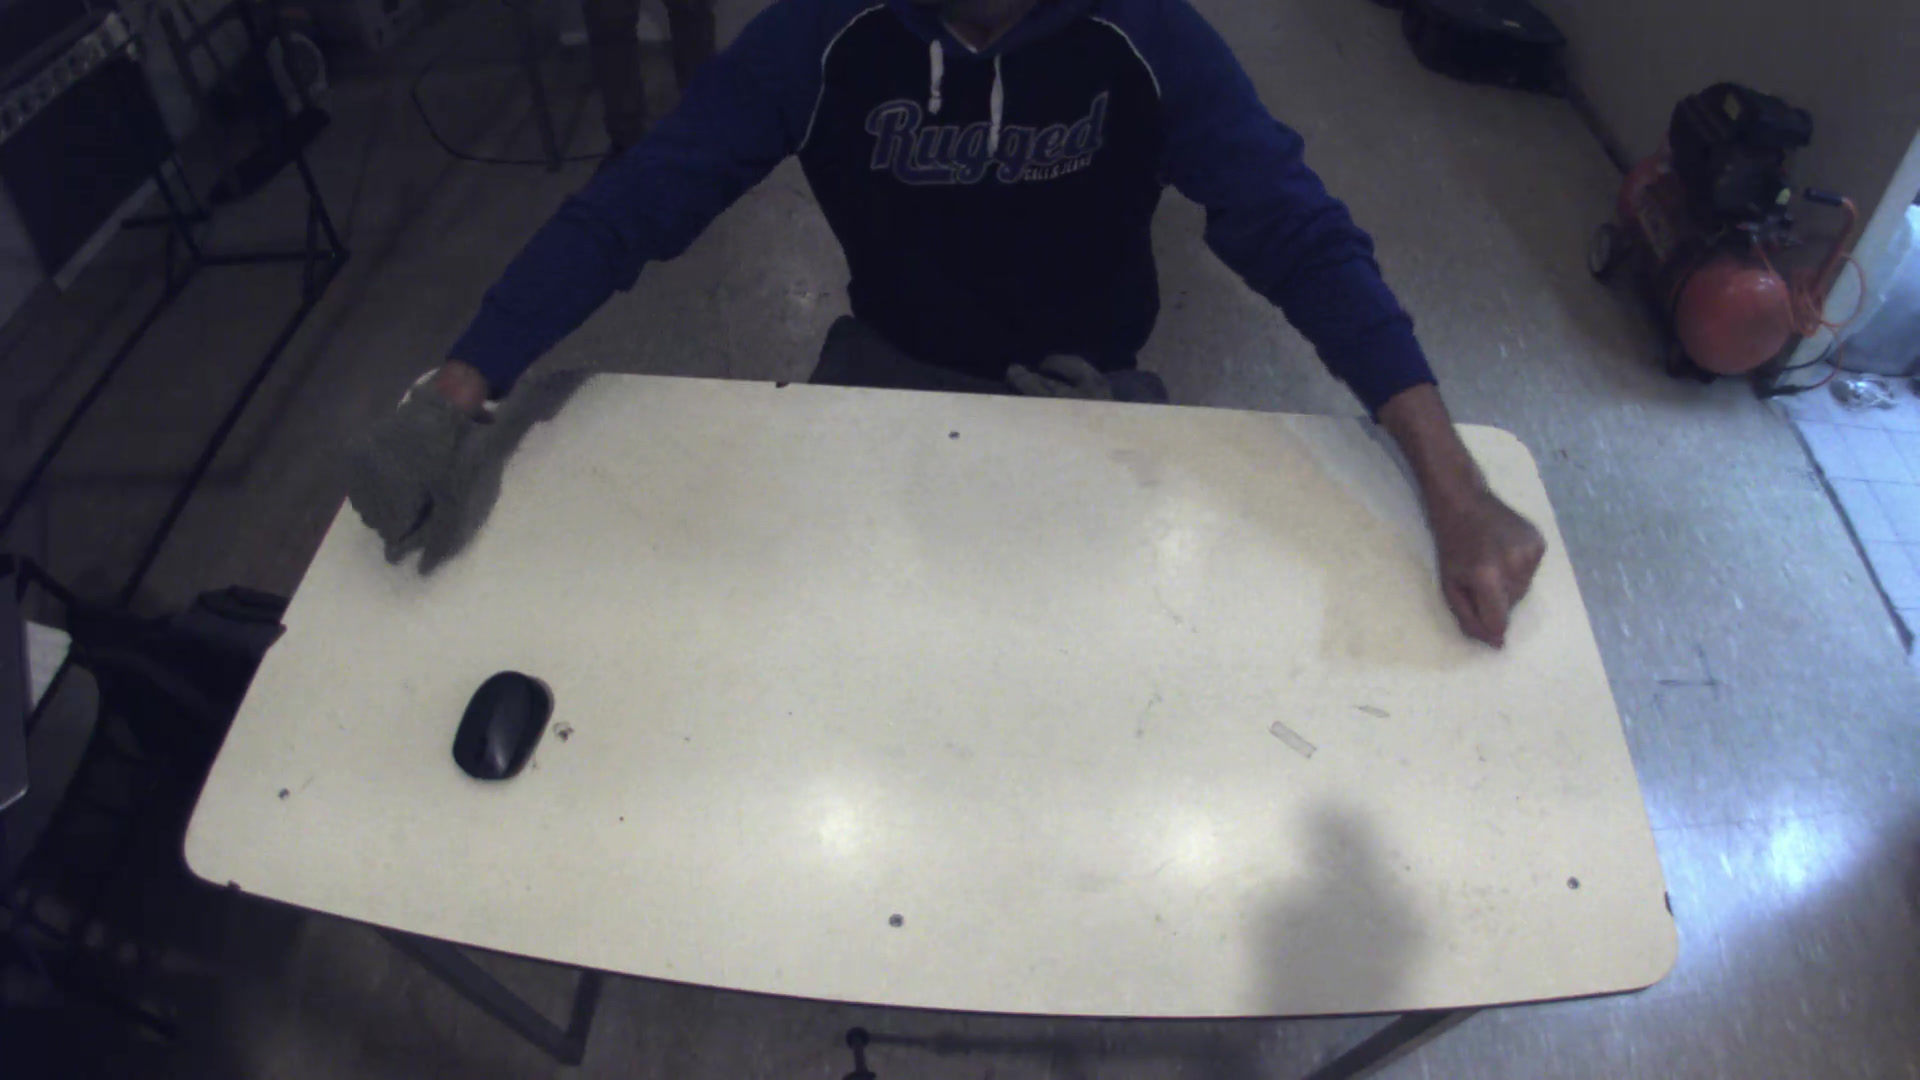hand: (1422, 467, 1553, 651)
